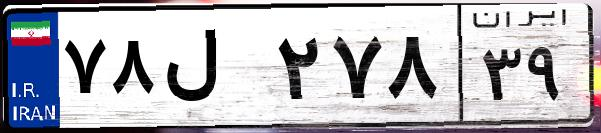2: (270, 28, 330, 110)
3: (475, 38, 525, 113)
7: (330, 28, 385, 110), (57, 26, 110, 100)
8: (385, 28, 445, 110), (110, 28, 158, 98)
9: (525, 38, 570, 115)
ل: (158, 20, 270, 120)
